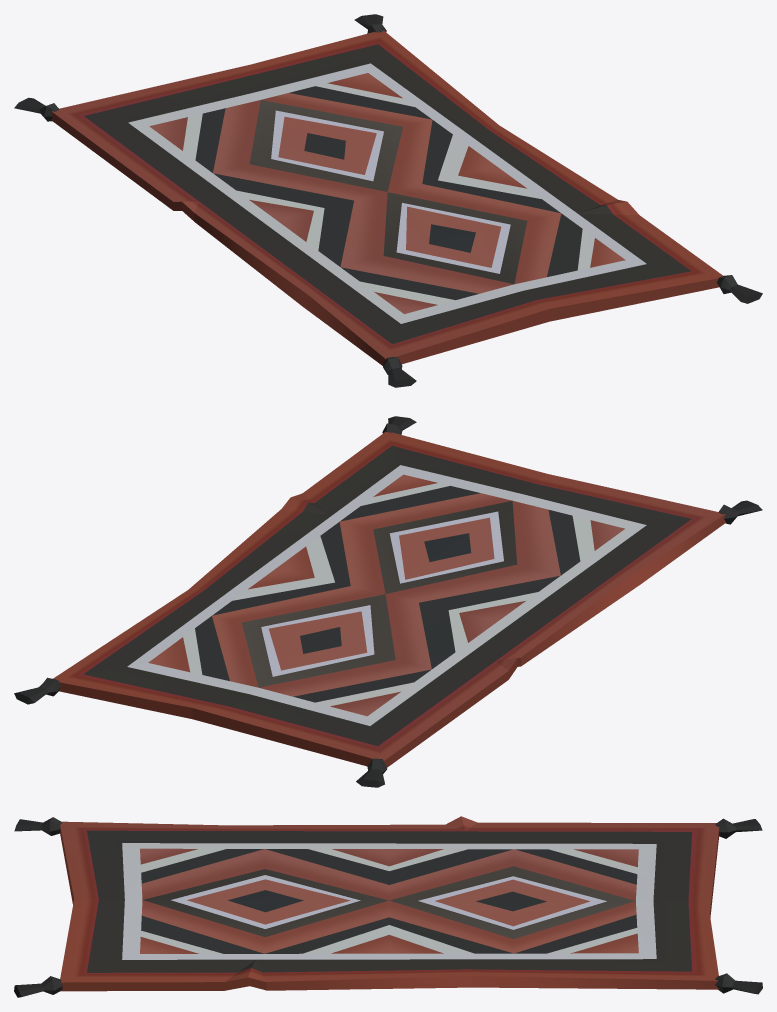
The model's file is rug6.glb.
3 views of the same model, one above another, from view 1: azimuth 30°, elevation 25°; view 2: azimuth 150°, elevation 25°; view 3: azimuth 270°, elevation 25° (orthographic). The views are drawn at different scales.
Parts seen in each view (by area): view 1: SM_Prop_Rug_01; view 2: SM_Prop_Rug_01; view 3: SM_Prop_Rug_01.
Boxes of the visible parts, bbox=[...] form: SM_Prop_Rug_01: bbox=[14, 14, 762, 387]; SM_Prop_Rug_01: bbox=[14, 416, 762, 787]; SM_Prop_Rug_01: bbox=[14, 816, 762, 997].
Size of the model in its own units: 1.45 by 0.0717 by 2.59.
1 material, 1 textured.
